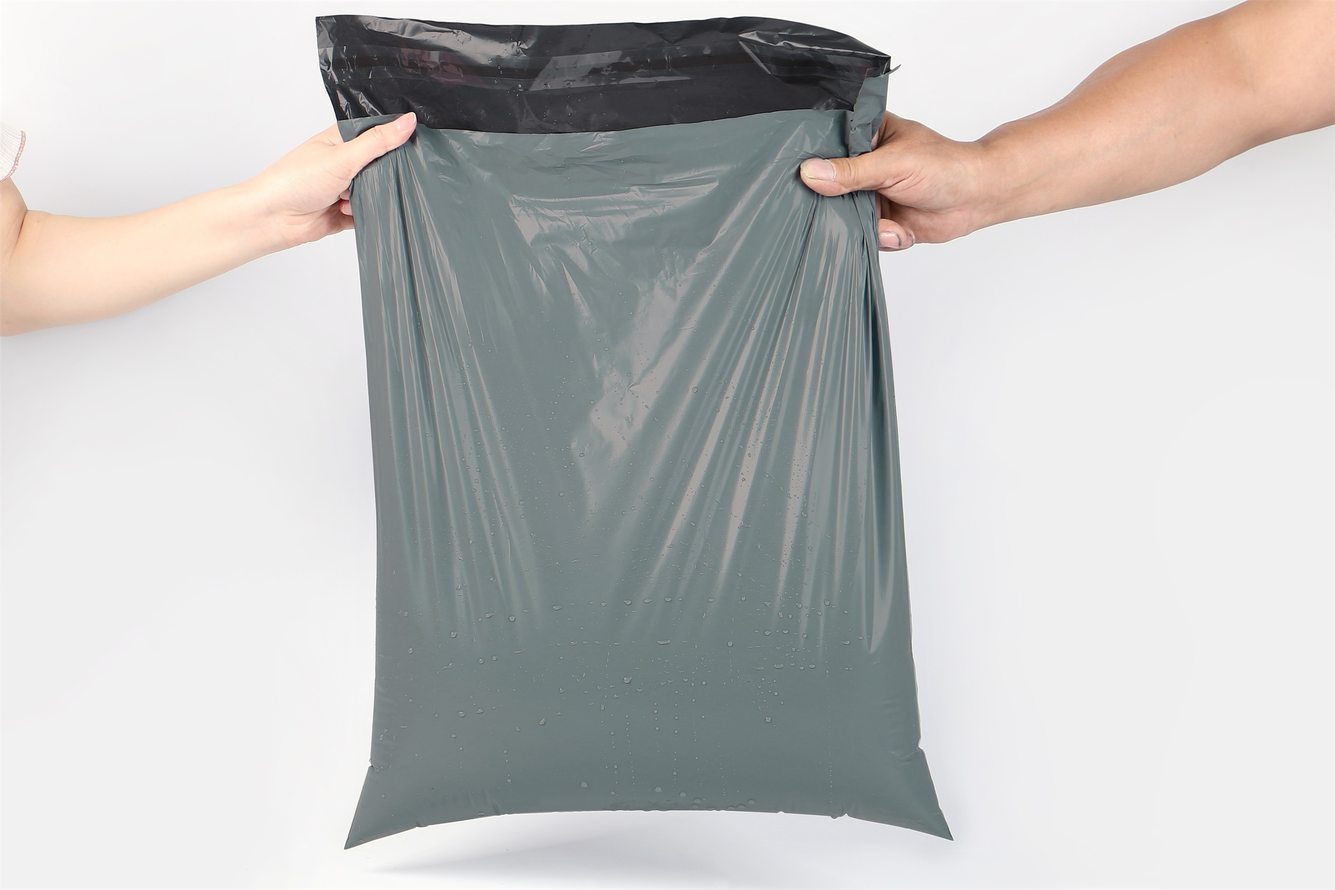塑料袋: (316, 0, 949, 859)
